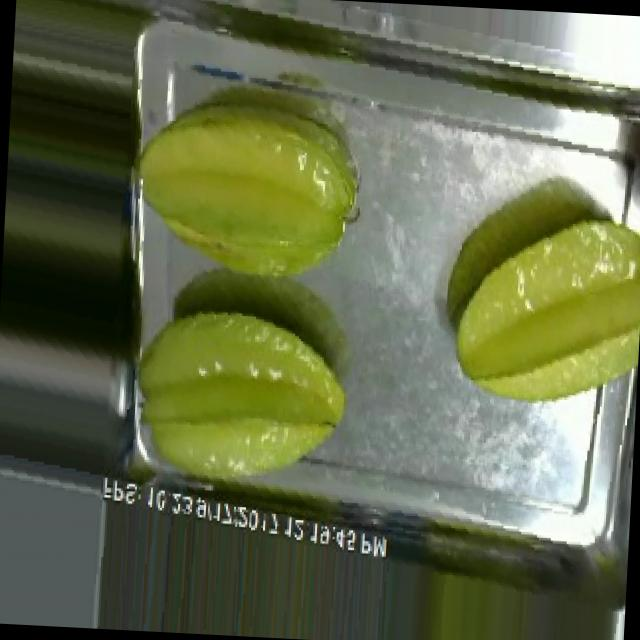fruit: (125, 65, 383, 308), (124, 283, 370, 516), (430, 182, 640, 440)
